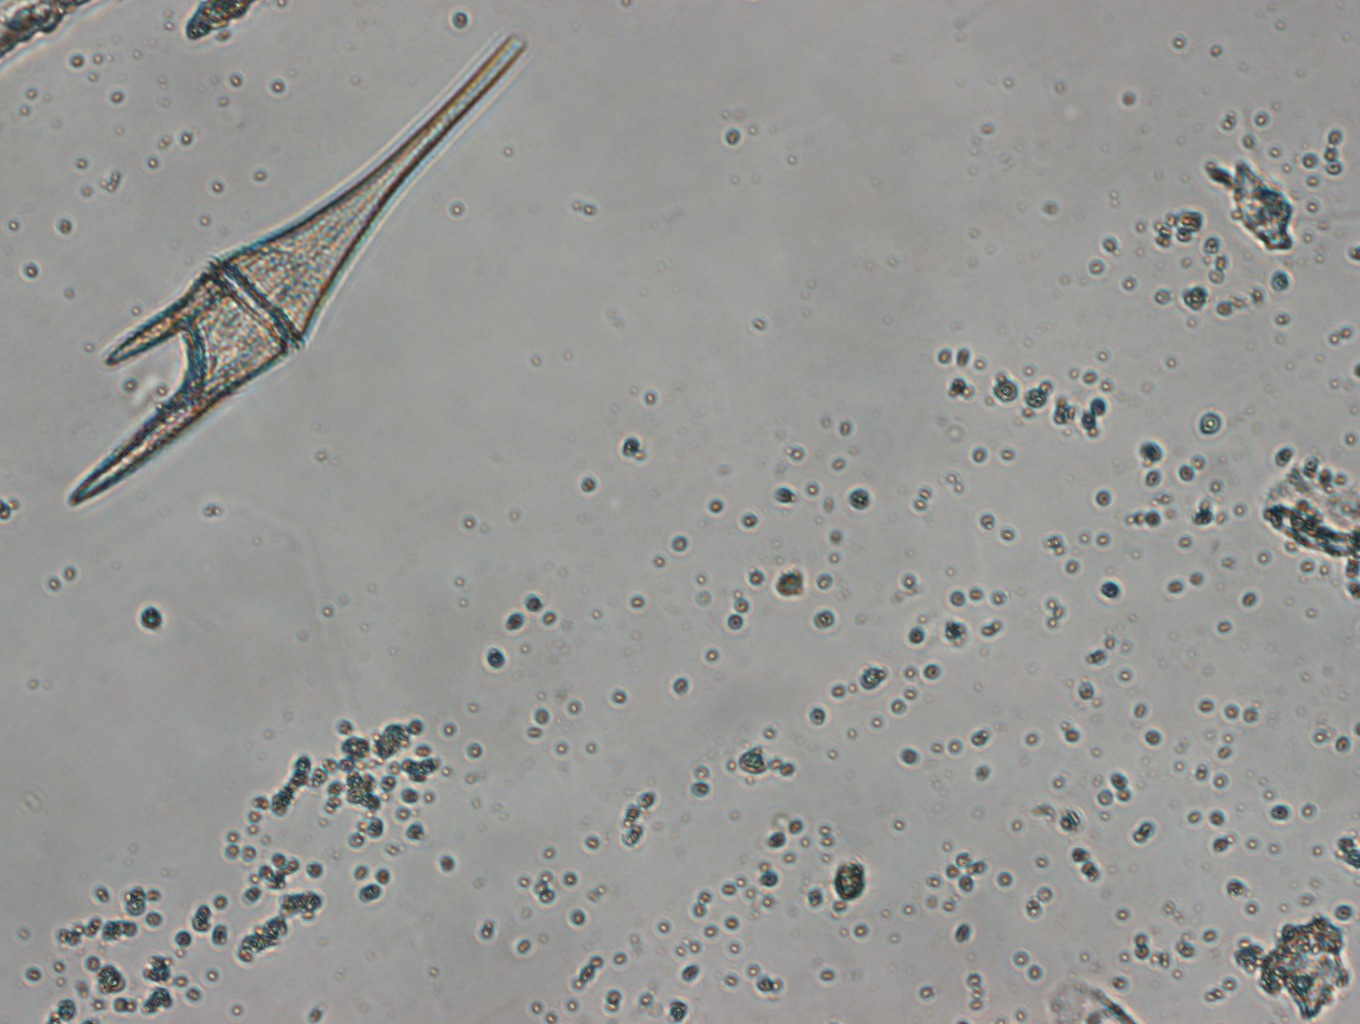ceratium furca: (63, 27, 533, 509)
